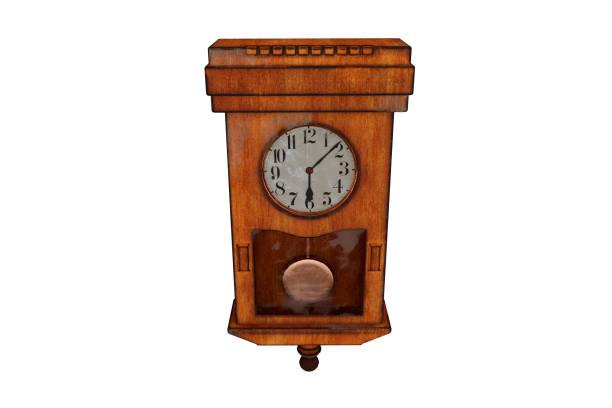clock: (260, 124, 359, 215)
